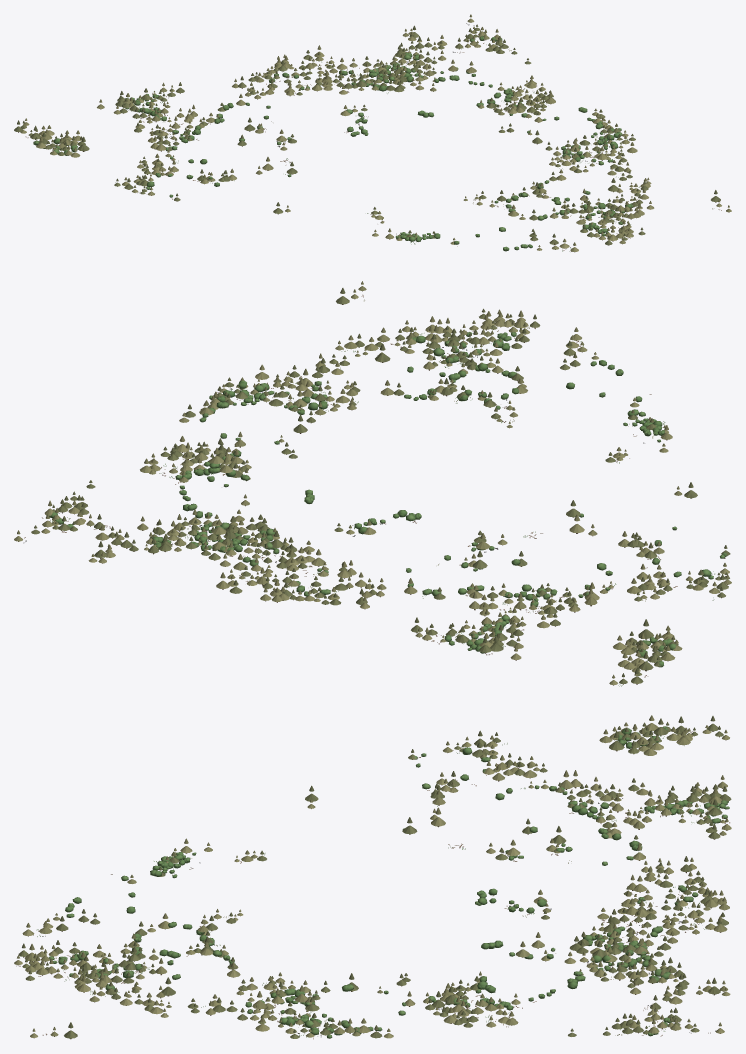
File: Foliage_P3.fbx
3 views of the same model, one above another, from view 1: azimuth 30°, elevation 25°; view 2: azimuth 150°, elevation 25°; view 3: azimuth 270°, elevation 25° (orthographic). The views are drawn at different scales.
Size of the model in its own units: 61854 by 5300 by 61510.
